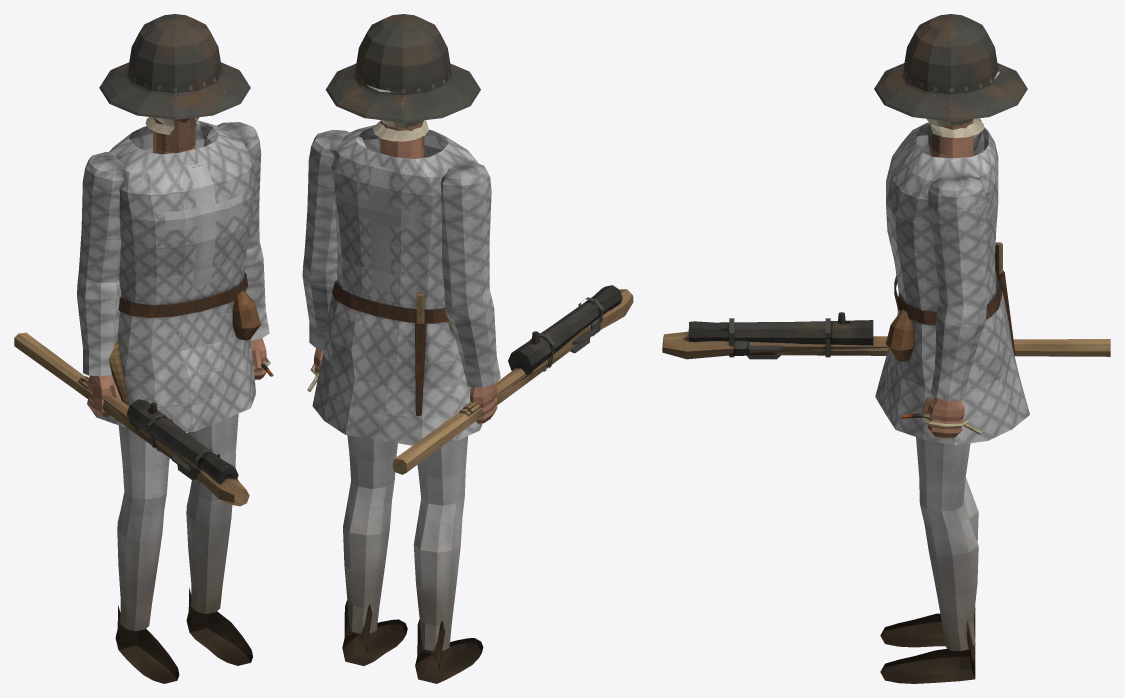
File: handgunners.glb
3 renders of one model, left to right at view 1: azimuth 30°, elevation 25°; view 2: azimuth 150°, elevation 25°; view 3: azimuth 270°, elevation 25°, orthographic. The views are drawn at different scales.
Parts seen in each view (by area): view 1: handgunners_LOD0; view 2: handgunners_LOD0; view 3: handgunners_LOD0.
Boxes of the visible parts, bbox=[...] form: handgunners_LOD0: bbox=[14, 14, 273, 683]; handgunners_LOD0: bbox=[302, 14, 633, 683]; handgunners_LOD0: bbox=[662, 14, 1110, 683].
Size of what is drawn, in the model's own units: 0.5448 by 1.8 by 1.14.
1 material, 1 textured.
